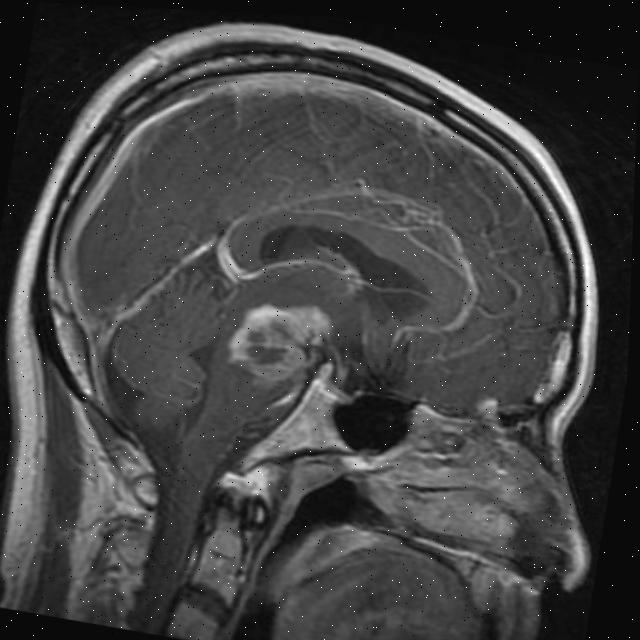Glioma: (223, 289, 335, 391)
